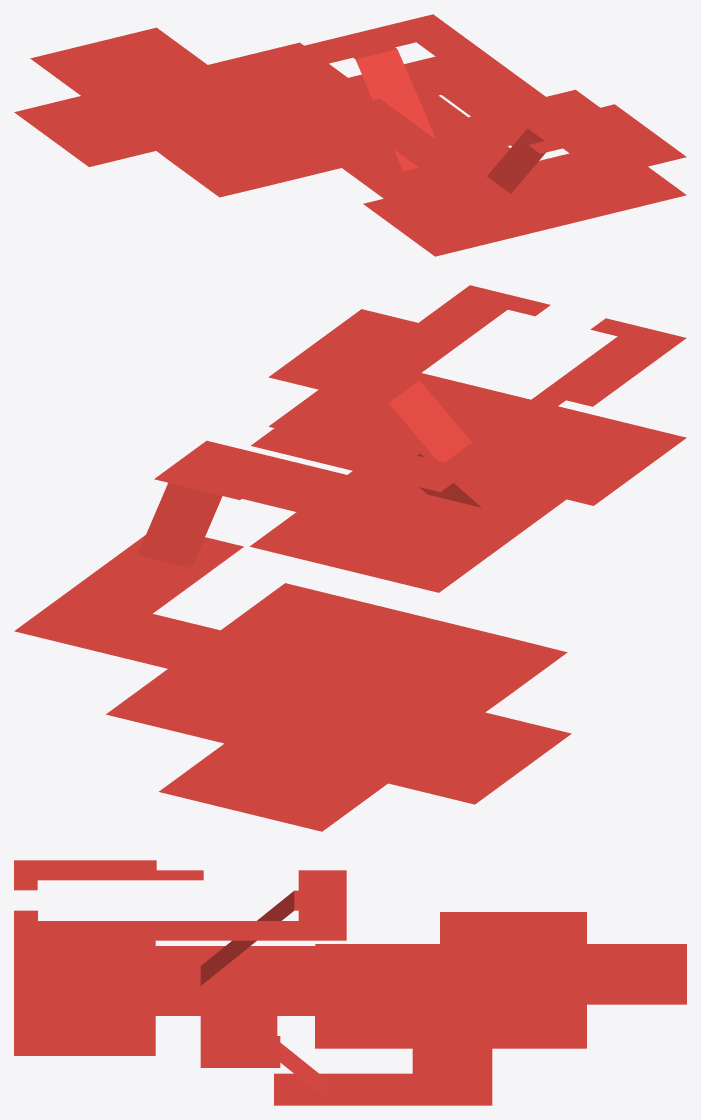
The model's file is nav_level_map.fbx.
3 renders of one model, top to bottom at view 1: azimuth 30°, elevation 25°; view 2: azimuth 150°, elevation 25°; view 3: azimuth 270°, elevation 25°, orthographic. The views are drawn at different scales.
Visible parts, largest first — view 1: nav_remake1; view 2: nav_remake1; view 3: nav_remake1.
Boxes of the visible parts, x1,y1,x2,y2 form: nav_remake1: (14, 14, 686, 256); nav_remake1: (14, 285, 686, 831); nav_remake1: (14, 860, 686, 1105).
Size of the model in its own units: 28870 by 7867 by 42446.
